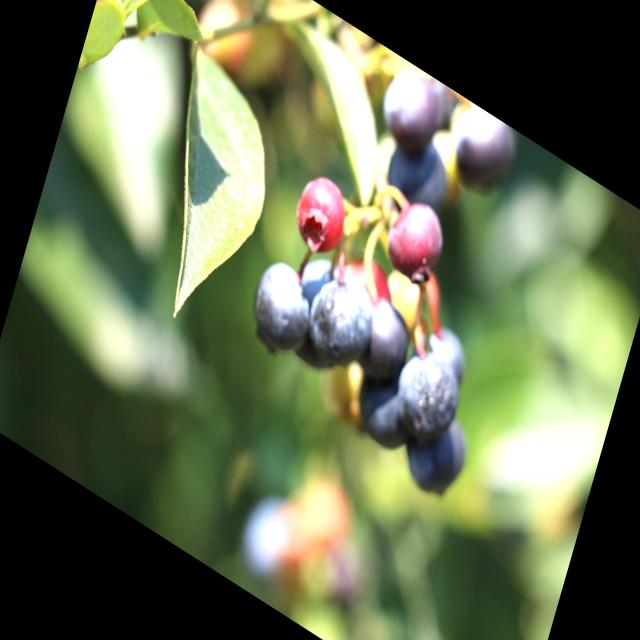blueberry: (268, 236, 362, 384), (381, 331, 471, 468), (237, 244, 327, 380), (296, 254, 382, 383), (393, 388, 478, 516), (375, 115, 461, 237), (438, 95, 524, 216), (370, 54, 450, 169), (350, 289, 422, 403), (345, 359, 419, 467), (415, 311, 479, 398)
blueberry-halfripe: (379, 192, 449, 300), (288, 166, 355, 266)
